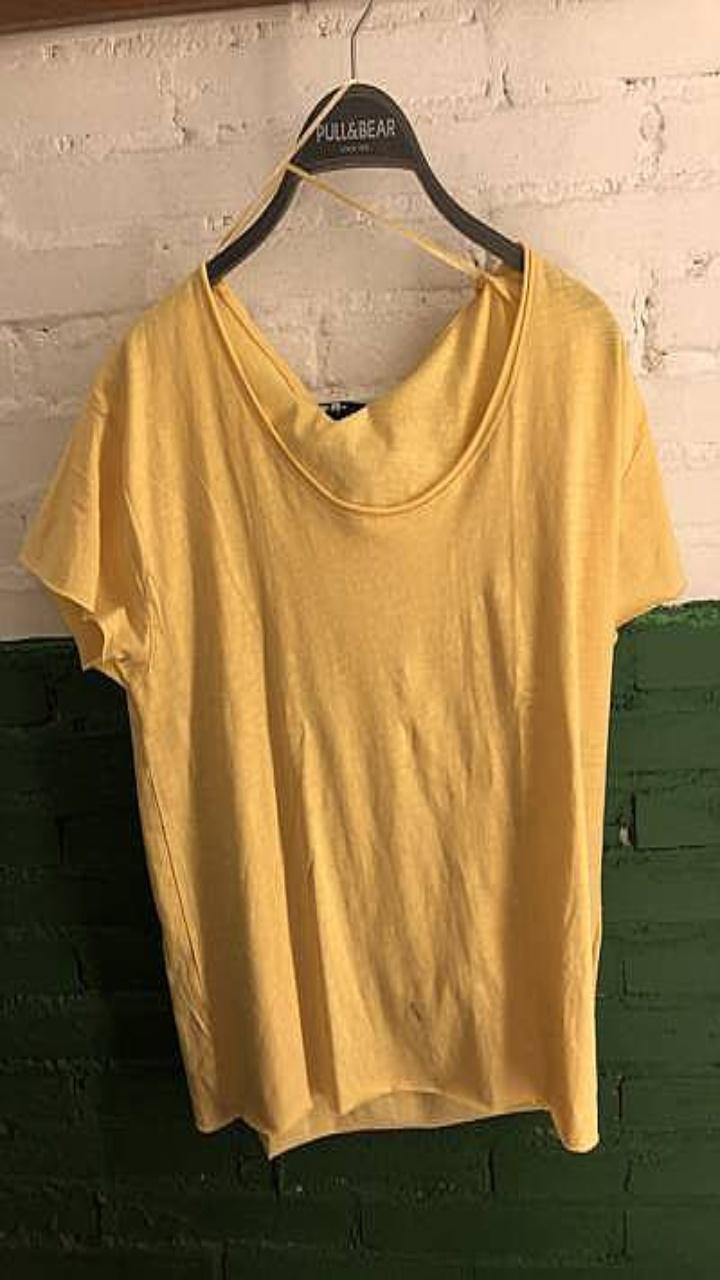T-Shirt: (20, 241, 685, 1157)
